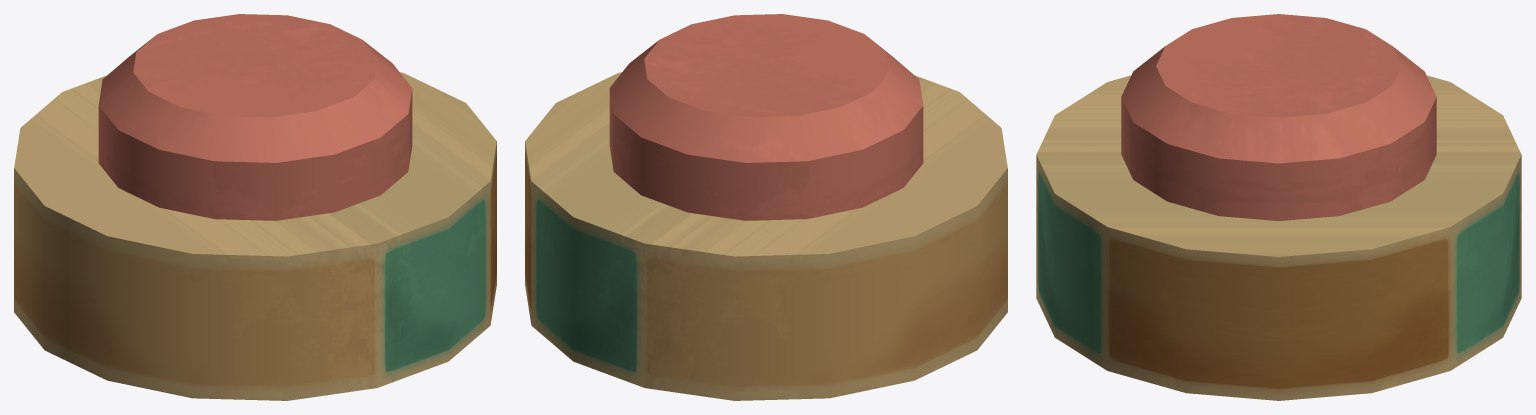
Rendered from AztecButton (2).fbx.
The picture shows the model from 3 angles, left to right: view 1: azimuth 30°, elevation 25°; view 2: azimuth 150°, elevation 25°; view 3: azimuth 270°, elevation 25°; orthographic projection.
Parts seen in each view (by area): view 1: Circle, Circle.006; view 2: Circle, Circle.006; view 3: Circle, Circle.006.
Boxes of the visible parts, x1,y1,x2,y2 form: Circle: [14, 72, 496, 400]; Circle.006: [98, 14, 412, 220]; Circle: [525, 72, 1007, 400]; Circle.006: [609, 14, 923, 220]; Circle: [1036, 75, 1521, 400]; Circle.006: [1121, 14, 1436, 220].
Size of the model in its own units: 600 by 317 by 600.
2 materials, 2 textured.
